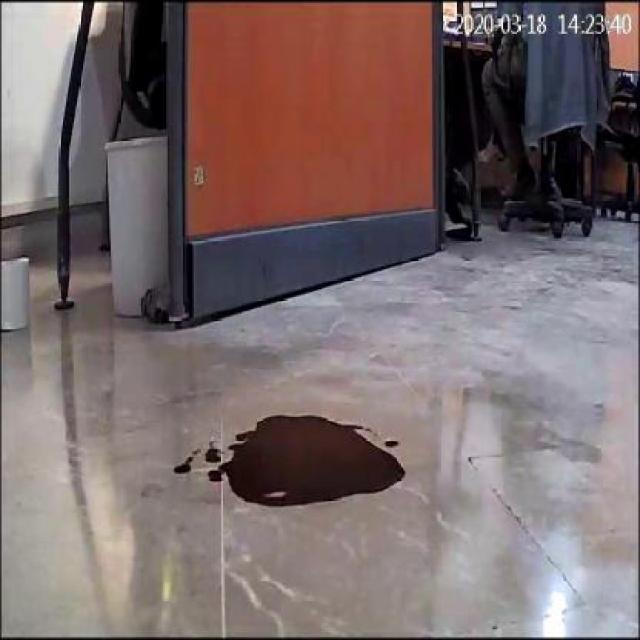spill: (209, 414, 409, 506)
